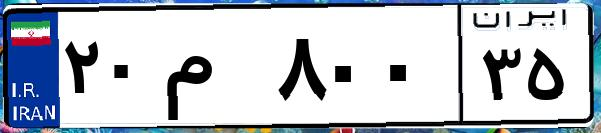0: (385, 28, 445, 110), (330, 28, 385, 110), (110, 28, 158, 98)
2: (57, 26, 110, 100)
3: (475, 38, 525, 113)
5: (525, 38, 570, 115)
8: (270, 28, 330, 110)
م: (158, 20, 270, 120)
